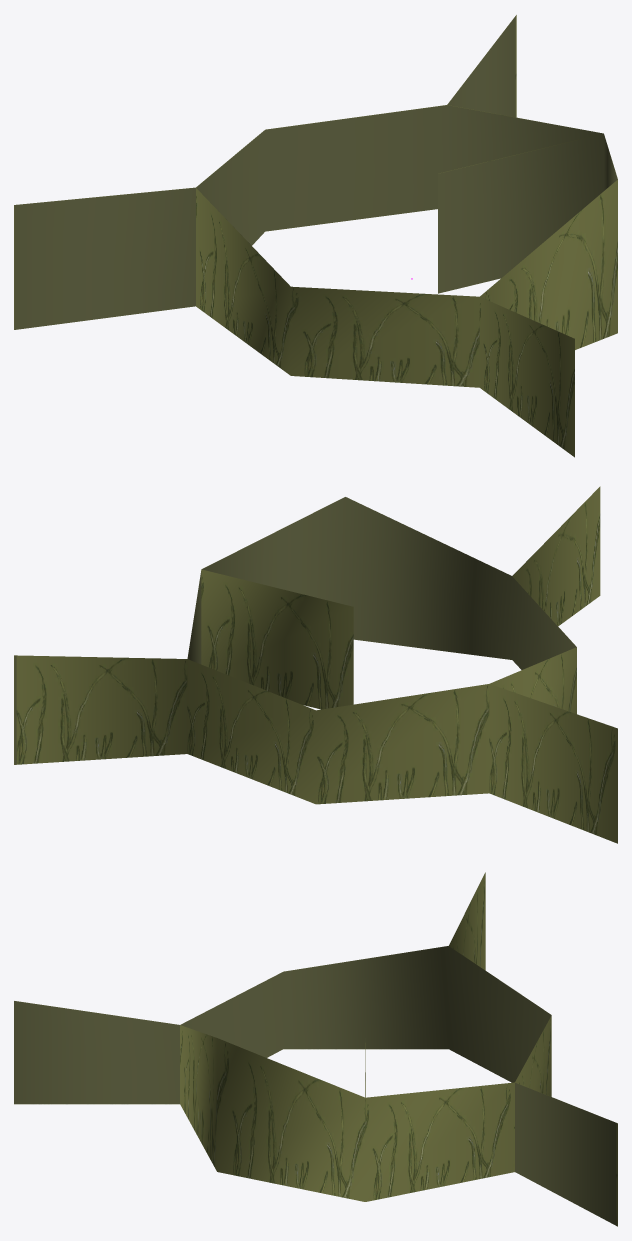
Rendered from mveg1as.glb.
3 renders of one model, top to bottom at view 1: azimuth 30°, elevation 25°; view 2: azimuth 150°, elevation 25°; view 3: azimuth 270°, elevation 25°, orthographic. The views are drawn at different scales.
Visible parts, largest first — view 1: 01 Mesh0.001, 01 Mesh0; view 2: 01 Mesh0, 01 Mesh0.001; view 3: 01 Mesh0.001, 01 Mesh0.
Boxes of the visible parts, x1,y1,x2,y2 form: 01 Mesh0.001: [14, 16, 617, 329]; 01 Mesh0: [14, 15, 617, 457]; 01 Mesh0: [14, 486, 617, 843]; 01 Mesh0.001: [14, 497, 576, 764]; 01 Mesh0.001: [14, 874, 616, 1225]; 01 Mesh0: [14, 872, 617, 1226].
Bounding box in the file's own units: 10.03 × 2.55 × 10.41.
2 materials, 1 textured.
